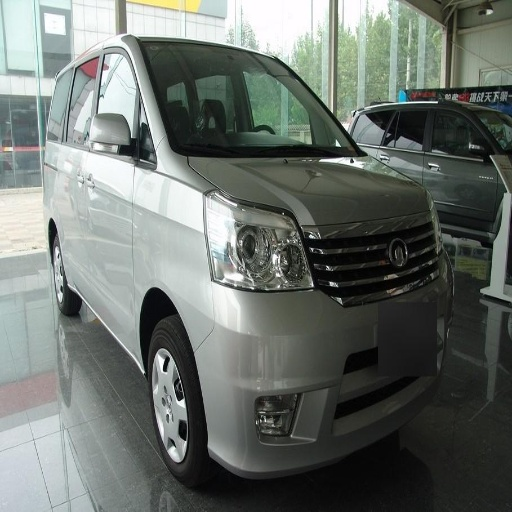front_bumper: (184, 224, 451, 478)
front_right_door: (85, 43, 154, 328)
front_right_light: (207, 194, 313, 291)
